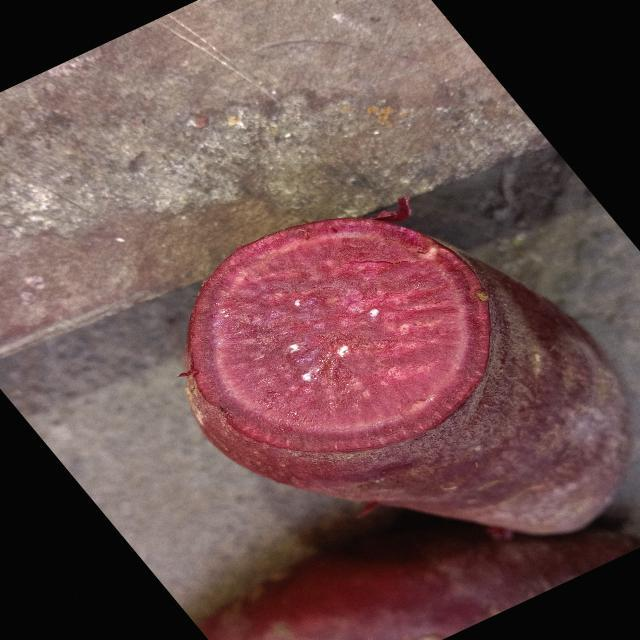Healthy Sweet Potato: (187, 205, 490, 452)
